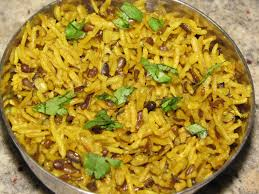khichuri: (10, 2, 251, 192)
